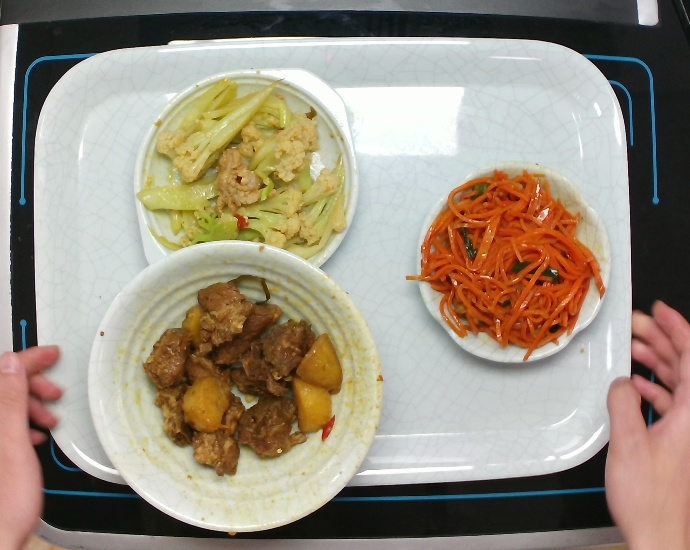JYsf-Ao_Yuan_Wan: (413, 158, 613, 366)
JYsf-Shuang_Er_Pan: (130, 64, 363, 271)
JYsf-Xiao_Tang_Wan: (84, 238, 386, 534)
